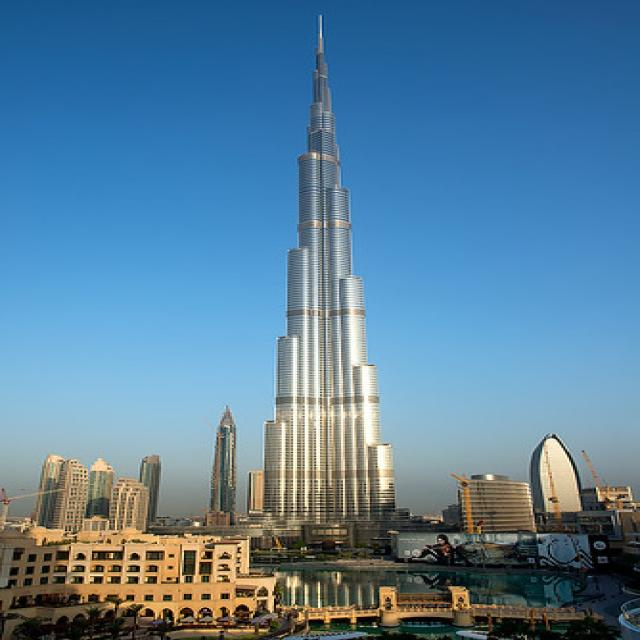building: (249, 66, 402, 519), (525, 430, 586, 524), (206, 404, 240, 524), (104, 472, 152, 542)
